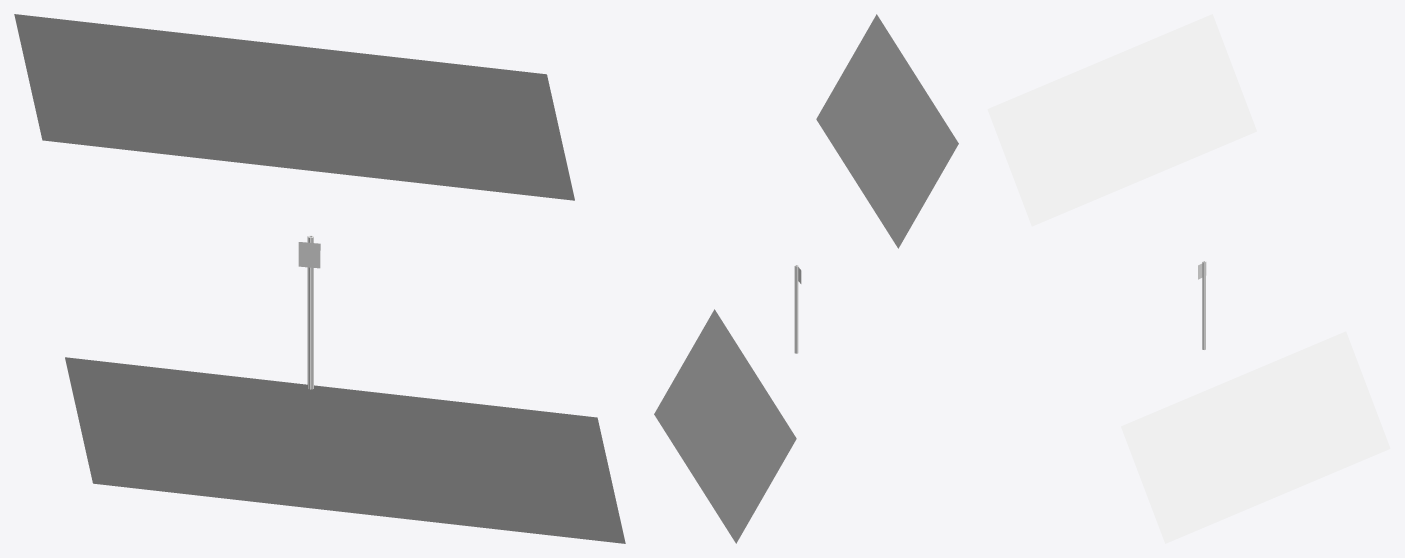
File: Star.fbx
The picture shows the model from 3 angles, left to right: view 1: azimuth 30°, elevation 25°; view 2: azimuth 150°, elevation 25°; view 3: azimuth 270°, elevation 25°; orthographic projection. The views are drawn at different scales.
Parts seen in each view (by area): view 1: Fade (1), Fade, starPlinthGlow; view 2: Fade, Fade (1), starPlinthGlow; view 3: Fade, Fade (1).
Part boxes in pixels (x1,y1,x2,y2): Fade (1): (14,14,574,200); Fade: (65,357,625,543); starPlinthGlow: (307,235,313,389); Fade: (654,309,796,543); Fade (1): (816,14,958,248); starPlinthGlow: (794,265,798,353); Fade: (1121,331,1390,543); Fade (1): (987,14,1256,226).
Size of the model in its own units: 76.95 by 82.38 by 81.53.
